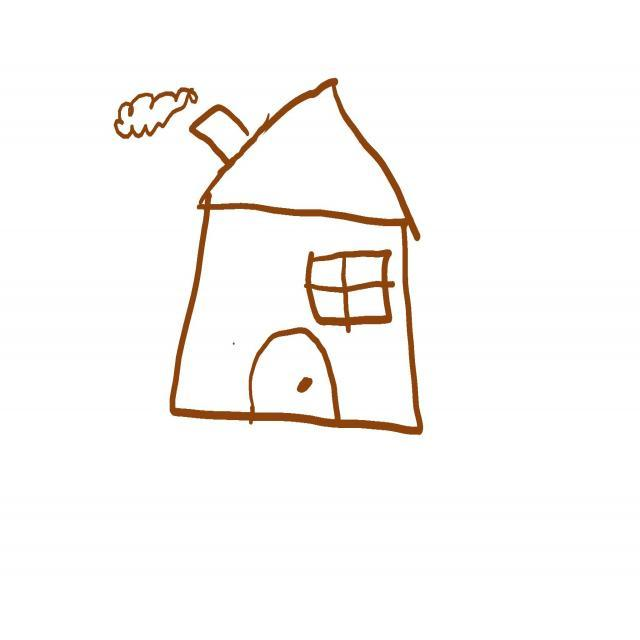chimney: (191, 98, 256, 164)
door: (251, 328, 341, 423)
house: (172, 78, 424, 434)
roof: (195, 81, 414, 225)
wall: (172, 206, 423, 439)
window: (305, 250, 396, 333)
